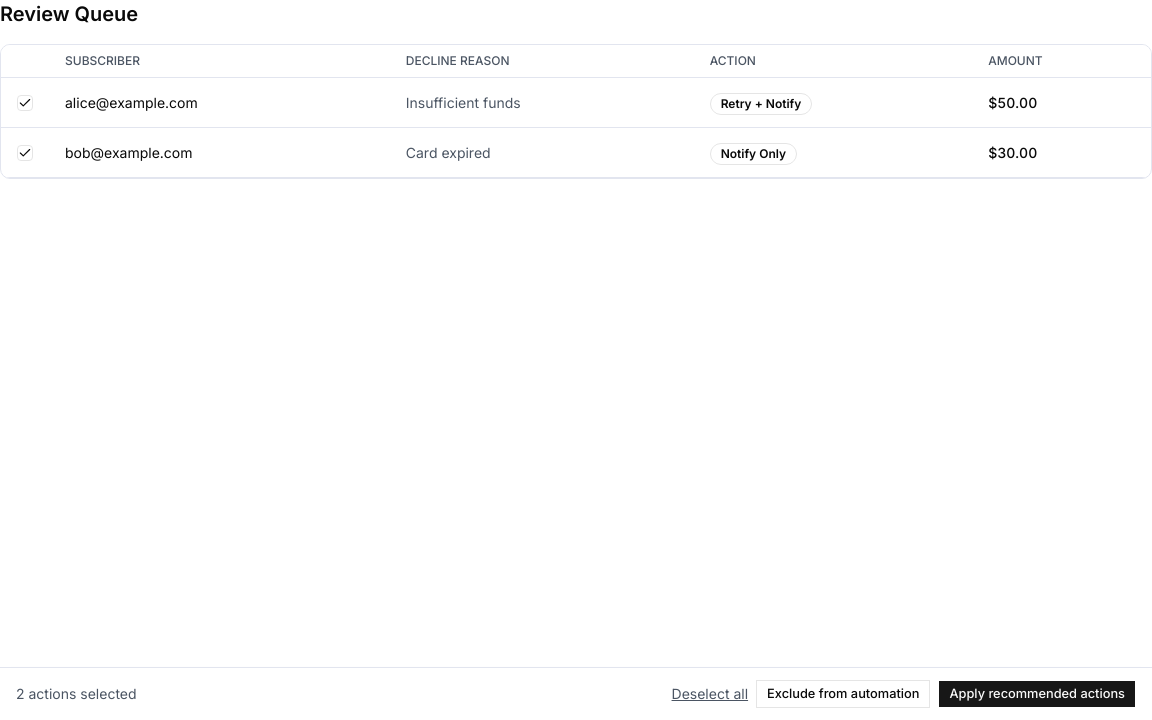
it: ReviewQueuePage › shows exclusion confirmation dialog
Click the button "Exclude from automation".
click(843, 694)  # box [756,680,930,708]
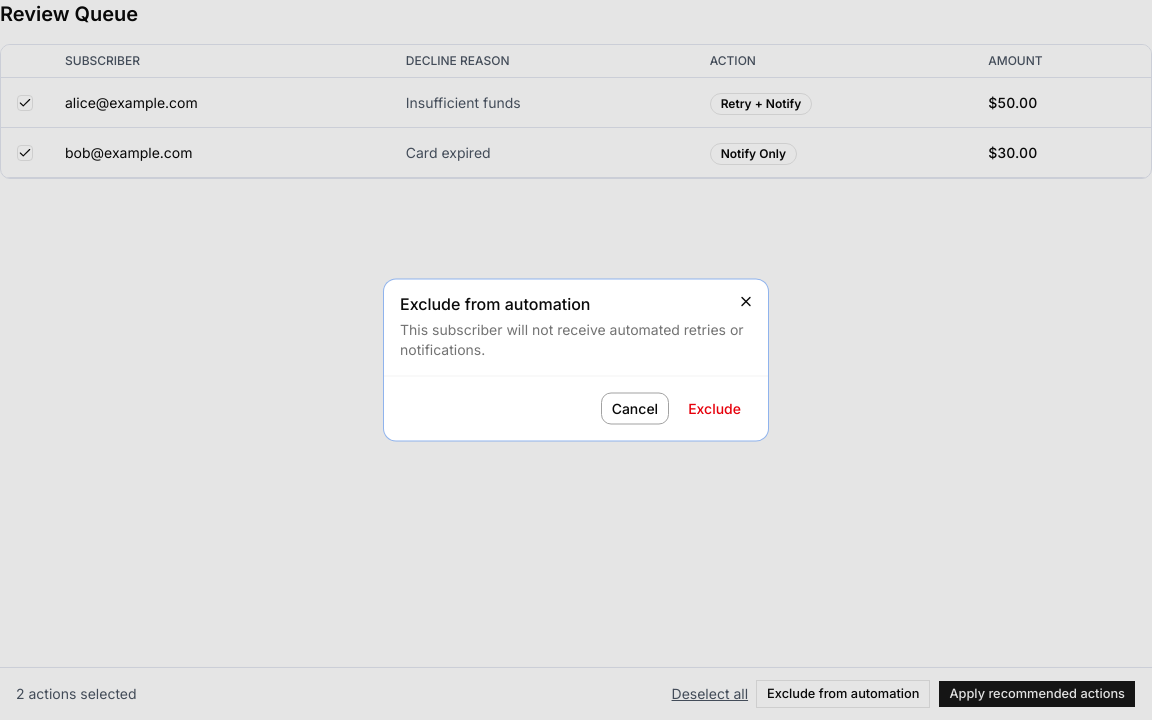
Result: the text "This subscriber will not receive automated retries or notifications." is shown at [400,320,752,360]
